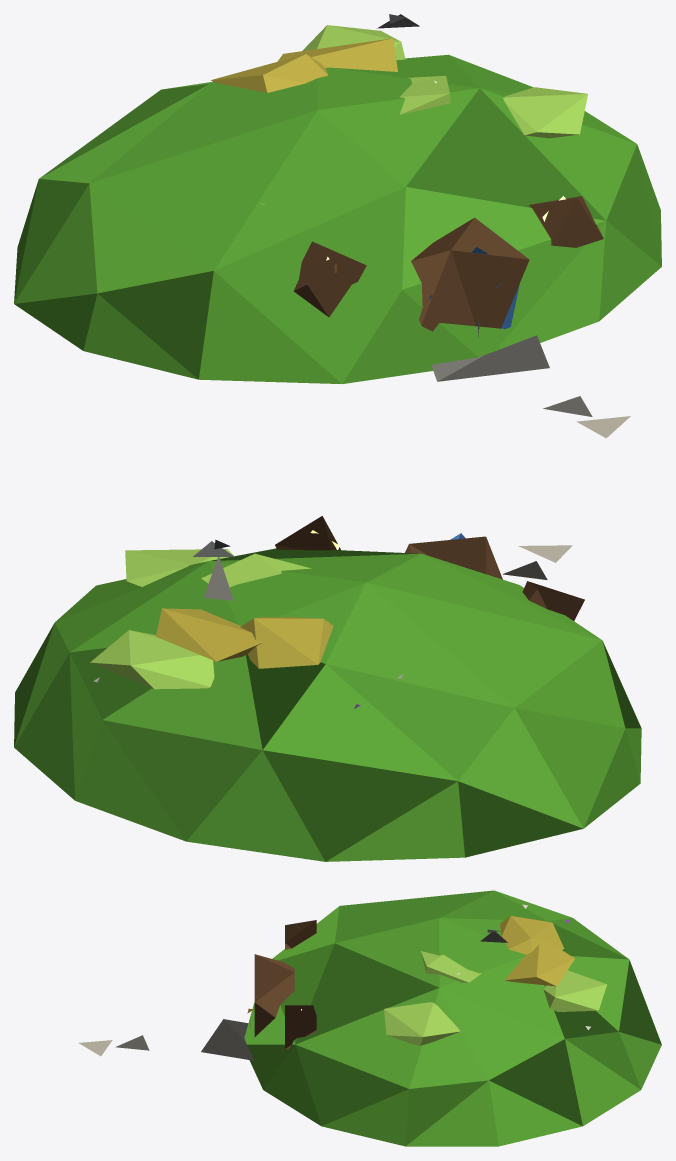
The model's file is hobbit_hole_4_lod2.glb.
The picture shows the model from 3 angles, top to bottom: view 1: azimuth 30°, elevation 25°; view 2: azimuth 150°, elevation 25°; view 3: azimuth 270°, elevation 25°; orthographic projection. The views are drawn at different scales.
Visible parts, largest first — view 1: hobbit_hole_4_lod2; view 2: hobbit_hole_4_lod2; view 3: hobbit_hole_4_lod2.
Part boxes in pixels (box(x1,y1,x2,y2)): hobbit_hole_4_lod2: box(14, 14, 661, 438); hobbit_hole_4_lod2: box(14, 516, 641, 861); hobbit_hole_4_lod2: box(79, 890, 661, 1146).
Bounding box in the file's own units: 12.2 × 4.12 × 16.28.
